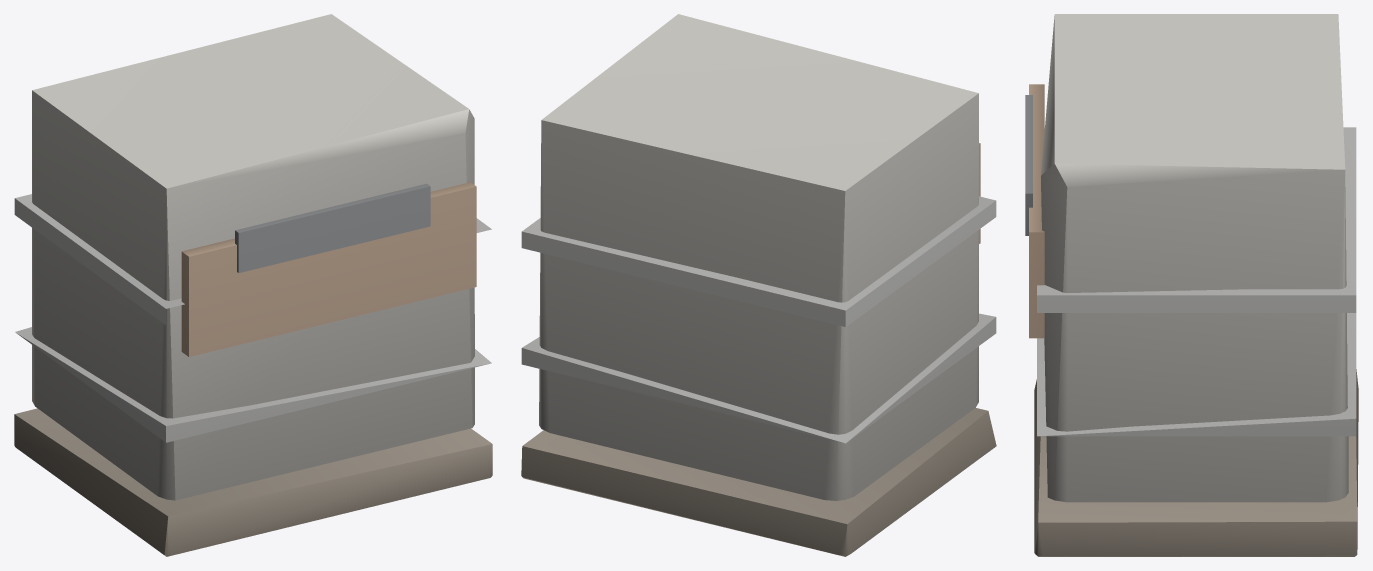
File: palletload.lod1.glb
The picture shows the model from 3 angles, left to right: view 1: azimuth 30°, elevation 25°; view 2: azimuth 150°, elevation 25°; view 3: azimuth 270°, elevation 25°; orthographic projection. The views are drawn at different scales.
Bounding box in the file's own units: 1.03 × 1.1 × 0.8566.
